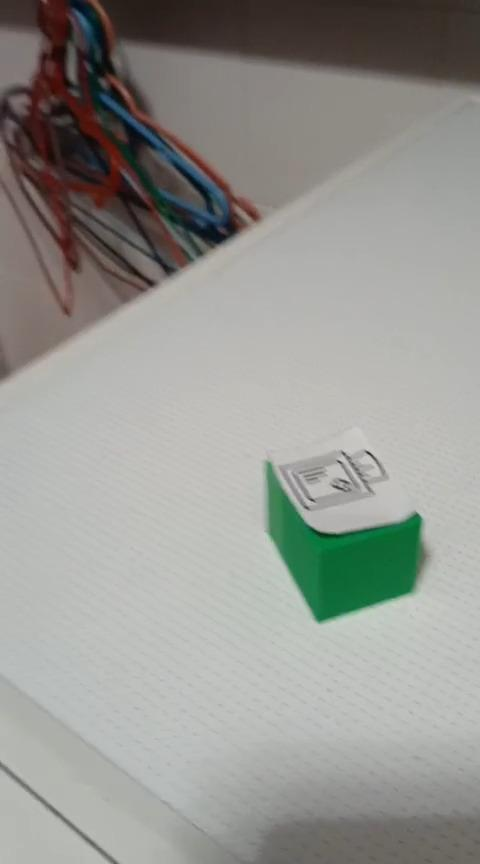Gauze: (262, 425, 424, 624)
